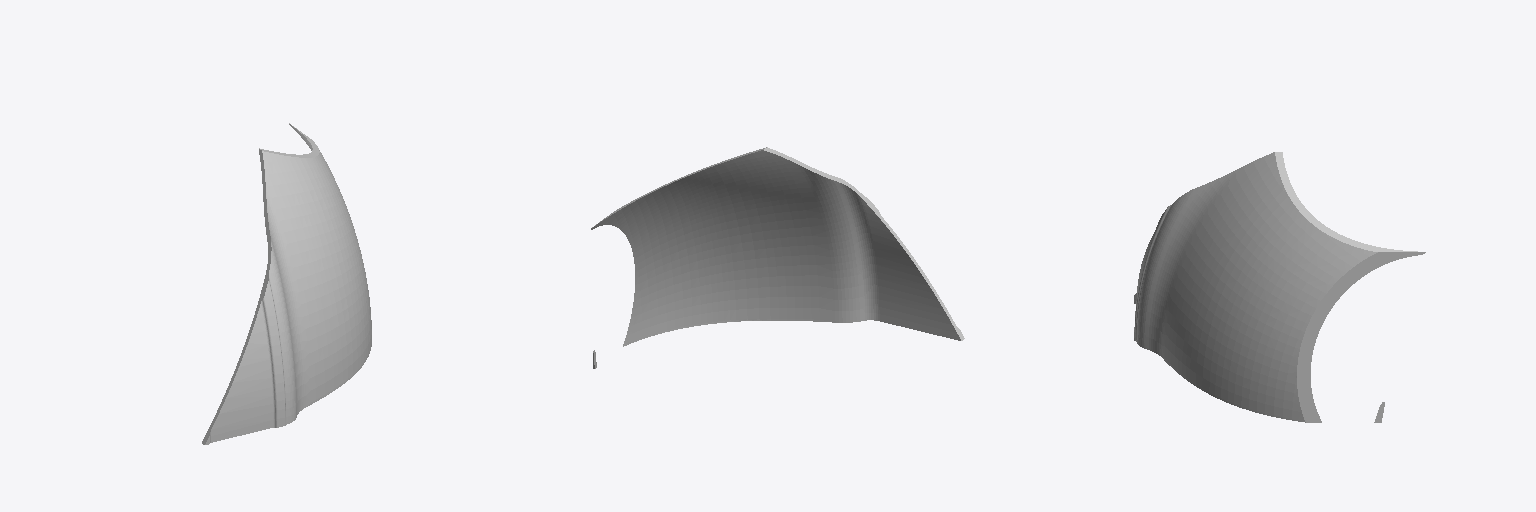
File: Body10.obj
The picture shows the model from 3 angles: view 1: azimuth 30°, elevation 25°; view 2: azimuth 150°, elevation 25°; view 3: azimuth 270°, elevation 25°; orthographic projection.
Visible parts, largest first — view 1: Body10; view 2: Body10; view 3: Body10.
Boxes of the visible parts, x1,y1,x2,y2 form: Body10: [202, 123, 371, 444]; Body10: [591, 147, 964, 368]; Body10: [1134, 152, 1425, 422].
Size of the model in its own units: 1.27 by 1.04 by 1.3.